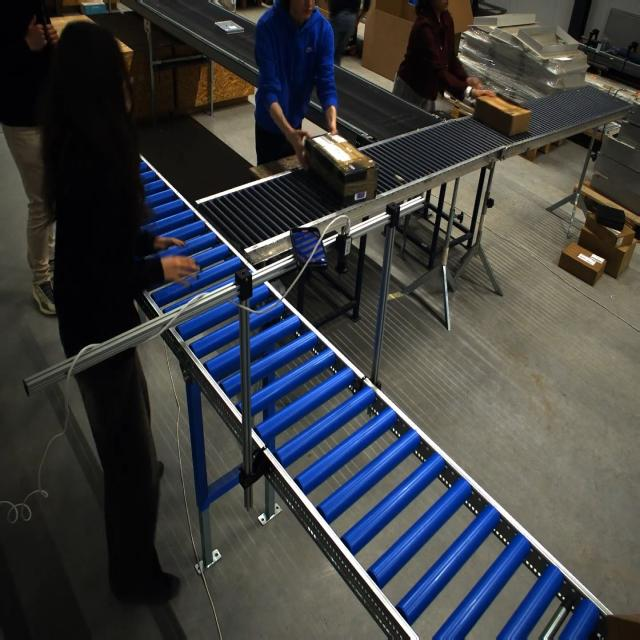box: (303, 132, 368, 202), (472, 93, 531, 138)
product: (214, 20, 244, 35)
